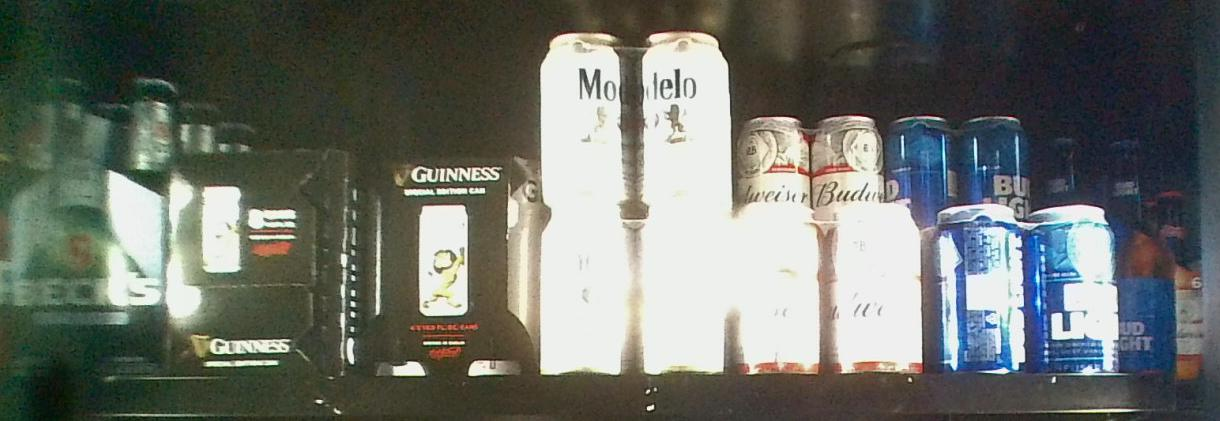bottle: (542, 31, 724, 375), (164, 149, 358, 378), (368, 152, 539, 381), (935, 202, 1122, 382), (737, 203, 927, 372)
